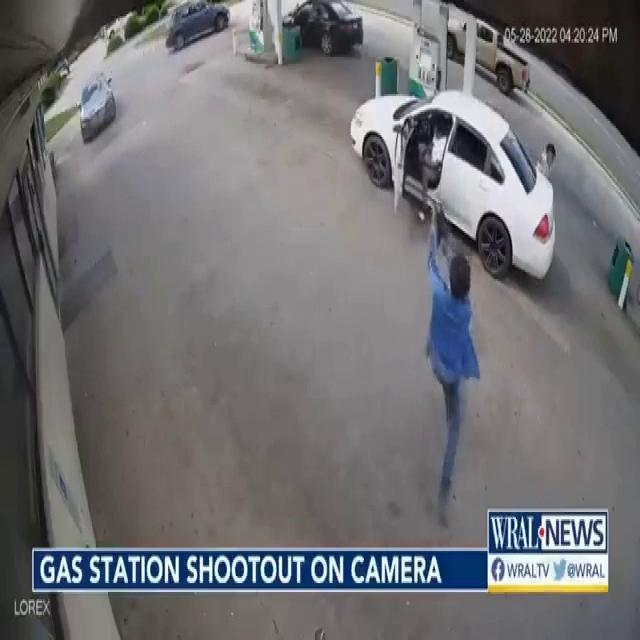penembakan: (419, 190, 473, 521)
